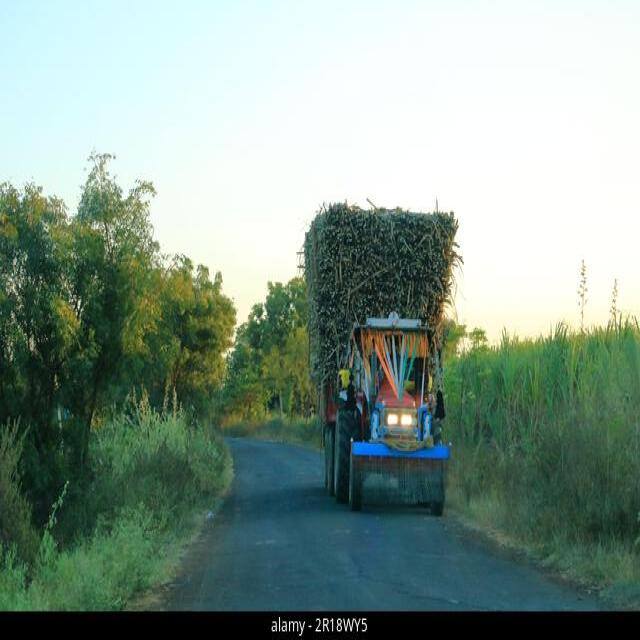goods: (305, 203, 459, 391)
truck: (322, 312, 449, 503)
